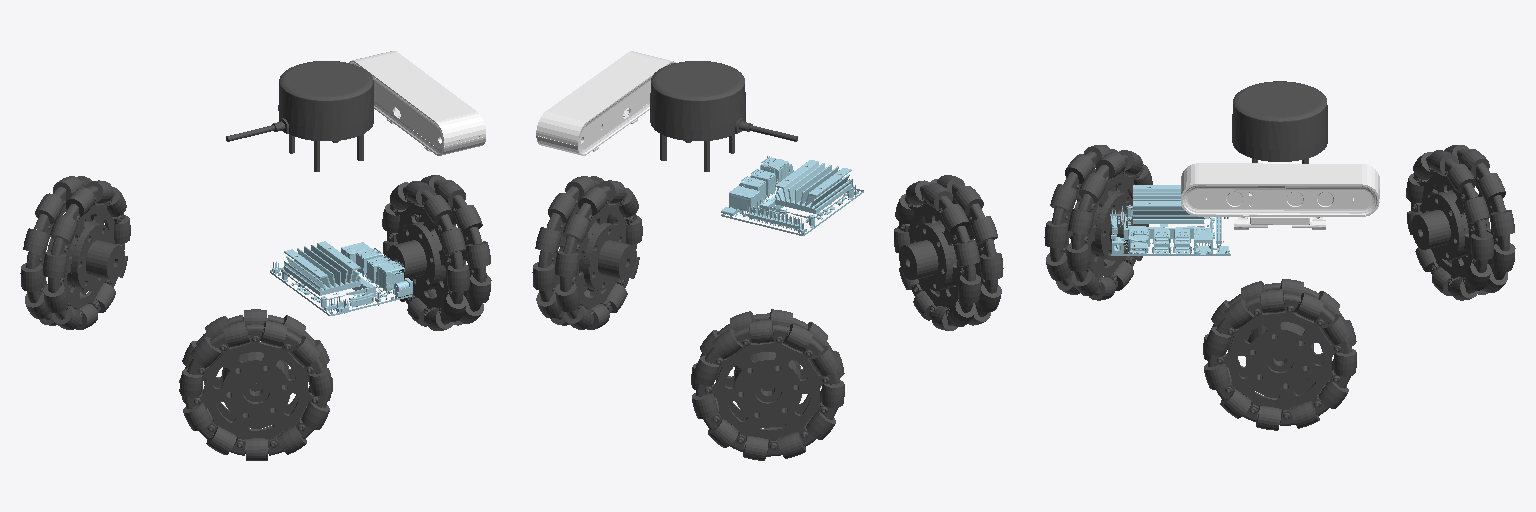
URDF robot description (senior_omni_robot):
<?xml version="1.0" encoding="utf-8"?>
<!-- This URDF was automatically created by SolidWorks to URDF Exporter! Originally created by [author] ([email redacted]) 
     Commit Version: 1.6.0-4-g7f85cfe  Build Version: 1.6.7995.38578
     For more information, please see http://wiki.ros.org/sw_urdf_exporter -->
<robot
  name="senior_omni_robot">
  <link
    name="base_link">
    <inertial>
      <origin
        xyz="-0.00981195062004635 -6.03619724956634E-05 0.0212652649458158"
        rpy="0 0 0" />
      <mass
        value="1.05727826606136" />
      <inertia
        ixx="0.00507652843785164"
        ixy="-1.75501428942139E-06"
        ixz="7.54905008355187E-07"
        iyy="0.00482509536050597"
        iyz="6.26575866475708E-09"
        izz="0.00972551896387533" />
    </inertial>
    <visual>
      <origin
        xyz="0 0 0"
        rpy="0 0 0" />
      <geometry>
        <mesh
          filename="package://wheeltec_robot_urdf/meshes/senior_omni_robot_meshes/base_link.STL" />
      </geometry>
      <material
        name="">
        <color
          rgba="0.741176470588235 0.901960784313726 0.956862745098039 1" />
      </material>
    </visual>
    <collision>
      <origin
        xyz="0 0 0"
        rpy="0 0 0" />
      <geometry>
        <mesh
          filename="package://wheeltec_robot_urdf/meshes/senior_omni_robot_meshes/base_link.STL" />
      </geometry>
    </collision>
  </link>
  <link
    name="quanxiang_wheel1_link">
    <inertial>
      <origin
        xyz="-9.83363178738242E-09 0.0311430242407447 -5.13701192000893E-09"
        rpy="0 0 0" />
      <mass
        value="0.0276205946940396" />
      <inertia
        ixx="5.37851280023328E-06"
        ixy="-5.43233625644847E-13"
        ixz="8.94224364387972E-12"
        iyy="7.33206763799281E-06"
        iyz="-2.84004134856353E-13"
        izz="5.3785446581865E-06" />
    </inertial>
    <visual>
      <origin
        xyz="0 0 0"
        rpy="0 0 0" />
      <geometry>
        <mesh
          filename="package://wheeltec_robot_urdf/meshes/senior_omni_robot_meshes/quanxiang_wheel1_link.STL" />
      </geometry>
      <material
        name="">
        <color
          rgba="0.376470588235294 0.376470588235294 0.376470588235294 1" />
      </material>
    </visual>
    <collision>
      <origin
        xyz="0 0 0"
        rpy="0 0 0" />
      <geometry>
        <mesh
          filename="package://wheeltec_robot_urdf/meshes/senior_omni_robot_meshes/quanxiang_wheel1_link.STL" />
      </geometry>
    </collision>
  </link>
  <joint
    name="quanxiang_wheel1_joint"
    type="continuous">
    <origin
      xyz="0.18229 -0.00010361 -0.028"
      rpy="0 0 1.5708" />
    <parent
      link="base_link" />
    <child
      link="quanxiang_wheel1_link" />
    <axis
      xyz="0 -1 0" />
  </joint>
  <link
    name="quanxiang_wheel2_link">
    <inertial>
      <origin
        xyz="1.40663552750109E-08 0.0311430388983574 3.17970066943118E-10"
        rpy="0 0 0" />
      <mass
        value="0.0276211039585547" />
      <inertia
        ixx="5.37857287562212E-06"
        ixy="-5.42935688981506E-13"
        ixz="4.44518440494828E-12"
        iyy="7.33215145644345E-06"
        iyz="2.43325687154061E-14"
        izz="5.37857164778512E-06" />
    </inertial>
    <visual>
      <origin
        xyz="0 0 0"
        rpy="0 0 0" />
      <geometry>
        <mesh
          filename="package://wheeltec_robot_urdf/meshes/senior_omni_robot_meshes/quanxiang_wheel2_link.STL" />
      </geometry>
      <material
        name="">
        <color
          rgba="0.376470588235294 0.376470588235294 0.376470588235294 1" />
      </material>
    </visual>
    <collision>
      <origin
        xyz="0 0 0"
        rpy="0 0 0" />
      <geometry>
        <mesh
          filename="package://wheeltec_robot_urdf/meshes/senior_omni_robot_meshes/quanxiang_wheel2_link.STL" />
      </geometry>
    </collision>
  </link>
  <joint
    name="quanxiang_wheel2_joint"
    type="continuous">
    <origin
      xyz="-0.090865 0.1576 -0.028"
      rpy="0 0 -2.618" />
    <parent
      link="base_link" />
    <child
      link="quanxiang_wheel2_link" />
    <axis
      xyz="0 -1 0" />
  </joint>
  <link
    name="quanxiang_wheel3_link">
    <inertial>
      <origin
        xyz="-1.52528362995508E-08 0.0311430389831353 2.30580668100777E-09"
        rpy="0 0 0" />
      <mass
        value="0.0276211038802607" />
      <inertia
        ixx="5.37856829529633E-06"
        ixy="4.46599200983321E-13"
        ixz="-1.83459257256894E-12"
        iyy="7.33215149080628E-06"
        iyz="1.89274153227334E-13"
        izz="5.37857626247357E-06" />
    </inertial>
    <visual>
      <origin
        xyz="0 0 0"
        rpy="0 0 0" />
      <geometry>
        <mesh
          filename="package://wheeltec_robot_urdf/meshes/senior_omni_robot_meshes/quanxiang_wheel3_link.STL" />
      </geometry>
      <material
        name="">
        <color
          rgba="0.376470588235294 0.376470588235294 0.376470588235294 1" />
      </material>
    </visual>
    <collision>
      <origin
        xyz="0 0 0"
        rpy="0 0 0" />
      <geometry>
        <mesh
          filename="package://wheeltec_robot_urdf/meshes/senior_omni_robot_meshes/quanxiang_wheel3_link.STL" />
      </geometry>
    </collision>
  </link>
  <joint
    name="quanxiang_wheel3_joint"
    type="continuous">
    <origin
      xyz="-0.090865 -0.15781 -0.028"
      rpy="0 0 -0.5236" />
    <parent
      link="base_link" />
    <child
      link="quanxiang_wheel3_link" />
    <axis
      xyz="0 -1 0" />
  </joint>
  <link
    name="camera_link">
    <inertial>
      <origin
        xyz="-6.86974188646161E-08 1.57256848417323E-07 1.07502563601036E-07"
        rpy="0 0 0" />
      <mass
        value="0.0559842529818055" />
      <inertia
        ixx="0.00013080220116345"
        ixy="-9.96618759178462E-07"
        ixz="1.62299341995256E-06"
        iyy="1.91236263199853E-05"
        iyz="-4.42334232320485E-08"
        izz="0.000131387473914894" />
    </inertial>
    <visual>
      <origin
        xyz="0 0 0"
        rpy="0 0 0" />
      <geometry>
        <mesh
          filename="package://wheeltec_robot_urdf/meshes/senior_omni_robot_meshes/camera_link.STL" />
      </geometry>
      <material
        name="">
        <color
          rgba="1 1 1 1" />
      </material>
    </visual>
    <collision>
      <origin
        xyz="0 0 0"
        rpy="0 0 0" />
      <geometry>
        <mesh
          filename="package://wheeltec_robot_urdf/meshes/senior_omni_robot_meshes/camera_link.STL" />
      </geometry>
    </collision>
  </link>
  <joint
    name="camera_joint"
    type="fixed">
    <origin
      xyz="0.15548 0.00011939 0.1097"
      rpy="0 0 0" />
    <parent
      link="base_link" />
    <child
      link="camera_link" />
    <axis
      xyz="0 0 0" />
  </joint>
  <link
    name="laser_link">
    <inertial>
      <origin
        xyz="0.00240378910047985 -4.37908827524193E-06 0.0047285000202128"
        rpy="0 0 0" />
      <mass
        value="0.0390270384551322" />
      <inertia
        ixx="2.81872727096814E-05"
        ixy="-2.199004802737E-09"
        ixz="1.07118438707641E-06"
        iyy="3.37561149240498E-05"
        iyz="6.83962983602503E-10"
        izz="4.50913683022761E-05" />
    </inertial>
    <visual>
      <origin
        xyz="0 0 0"
        rpy="0 0 0" />
      <geometry>
        <mesh
          filename="package://wheeltec_robot_urdf/meshes/senior_omni_robot_meshes/laser.STL" />
      </geometry>
      <material
        name="">
        <color
          rgba="0.376470588235294 0.376470588235294 0.376470588235294 1" />
      </material>
    </visual>
    <collision>
      <origin
        xyz="0 0 0"
        rpy="0 0 0" />
      <geometry>
        <mesh
          filename="package://wheeltec_robot_urdf/meshes/senior_omni_robot_meshes/laser.STL" />
      </geometry>
    </collision>
  </link>
  <joint
    name="laser_joint"
    type="fixed">
    <origin
      xyz="0.067188 -0.00010361 0.12802"
      rpy="0 0 -3.1416" />
    <parent
      link="base_link" />
    <child
      link="laser_link" />
    <axis
      xyz="0 0 0" />
  </joint>
  <link
    name="controller_link">
    <inertial>
      <origin
        xyz="-0.0600532869148713 0.00815831753421048 0.00432047490100798"
        rpy="0 0 0" />
      <mass
        value="3.78285687466721E-05" />
      <inertia
        ixx="4.21761771348645E-10"
        ixy="-8.24841093526006E-26"
        ixz="4.94185321693553E-26"
        iyy="4.21761771348645E-10"
        iyz="1.52627009319963E-27"
        izz="2.5724562486622E-12" />
    </inertial>
    <visual>
      <origin
        xyz="0 0 0"
        rpy="0 0 0" />
      <geometry>
        <mesh
          filename="package://wheeltec_robot_urdf/meshes/senior_omni_robot_meshes/controller_link.STL" />
      </geometry>
      <material
        name="">
        <color
          rgba="0.741176470588235 0.901960784313726 0.956862745098039 1" />
      </material>
    </visual>
    <collision>
      <origin
        xyz="0 0 0"
        rpy="0 0 0" />
      <geometry>
        <mesh
          filename="package://wheeltec_robot_urdf/meshes/senior_omni_robot_meshes/controller_link.STL" />
      </geometry>
    </collision>
  </link>
  <joint
    name="controller_joint"
    type="fixed">
    <origin
      xyz="0.067891142775146 -0.140603608208945 0.0135"
      rpy="0 0 0" />
    <parent
      link="base_link" />
    <child
      link="controller_link" />
    <axis
      xyz="0 0 0" />
  </joint>
</robot>

--- Render facts (derived) ---
Views: 3 orthographic renders of the robot side by side, from view 1: azimuth 30°, elevation 25°; view 2: azimuth 150°, elevation 25°; view 3: azimuth 270°, elevation 25°.
Robot: senior_omni_robot — 7 links, 6 joints (3 continuous, 3 fixed); root link base_link; default pose: all joints at 0.
Links seen in each view (by area): view 1: quanxiang_wheel3_link, quanxiang_wheel2_link, quanxiang_wheel1_link, laser_link, camera_link, controller_link; view 2: quanxiang_wheel2_link, quanxiang_wheel3_link, quanxiang_wheel1_link, laser_link, camera_link, controller_link; view 3: quanxiang_wheel1_link, quanxiang_wheel2_link, camera_link, quanxiang_wheel3_link, laser_link, controller_link.
Boxes of the visible links, <box> form: quanxiang_wheel3_link: <box>179,309,332,460</box>; quanxiang_wheel2_link: <box>20,176,130,329</box>; quanxiang_wheel1_link: <box>382,175,491,330</box>; laser_link: <box>226,61,373,171</box>; camera_link: <box>349,51,485,155</box>; controller_link: <box>270,241,412,315</box>; quanxiang_wheel2_link: <box>691,309,844,460</box>; quanxiang_wheel3_link: <box>894,175,1003,330</box>; quanxiang_wheel1_link: <box>532,176,642,329</box>; laser_link: <box>650,61,797,171</box>; camera_link: <box>536,51,675,155</box>; controller_link: <box>721,156,863,235</box>; quanxiang_wheel1_link: <box>1203,279,1356,430</box>; quanxiang_wheel2_link: <box>1406,145,1515,300</box>; camera_link: <box>1180,163,1379,229</box>; quanxiang_wheel3_link: <box>1044,145,1152,300</box>; laser_link: <box>1232,81,1327,163</box>; controller_link: <box>1110,185,1230,255</box>.
Bounding box of the posed robot: 0.3406 × 0.3897 × 0.2475 m (x, y, z).
6 mesh visuals loaded from 7 distinct referenced files (6 binary STL); not drawn: 1 (reference not matched to a file when rendering).
